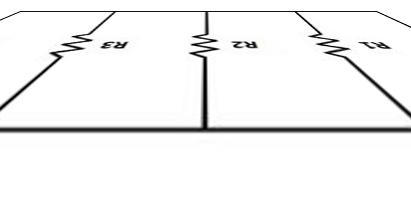resistor: (35, 28, 95, 67), (305, 26, 352, 68), (185, 24, 219, 69)
